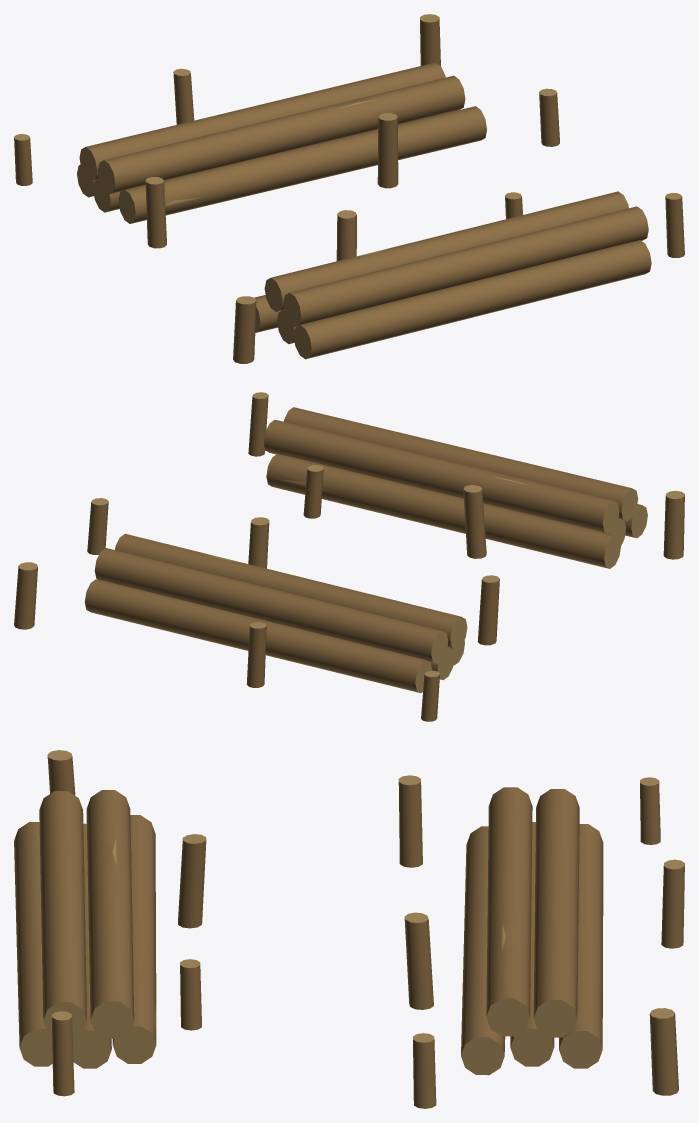
File: Trees cut.glb
3 views of the same model, one above another, from view 1: azimuth 30°, elevation 25°; view 2: azimuth 150°, elevation 25°; view 3: azimuth 270°, elevation 25° (orthographic). The views are drawn at different scales.
Visible parts, largest first — view 1: Resource_PineTree_Group_Cut; view 2: Resource_PineTree_Group_Cut; view 3: Resource_PineTree_Group_Cut.
Part boxes in pixels (left/top/right/bottom): Resource_PineTree_Group_Cut: left=14, top=14, right=684, bottom=363; Resource_PineTree_Group_Cut: left=14, top=392, right=684, bottom=721; Resource_PineTree_Group_Cut: left=14, top=750, right=684, bottom=1108.
Size of the model in its own units: 1.49 by 0.2116 by 1.48.
